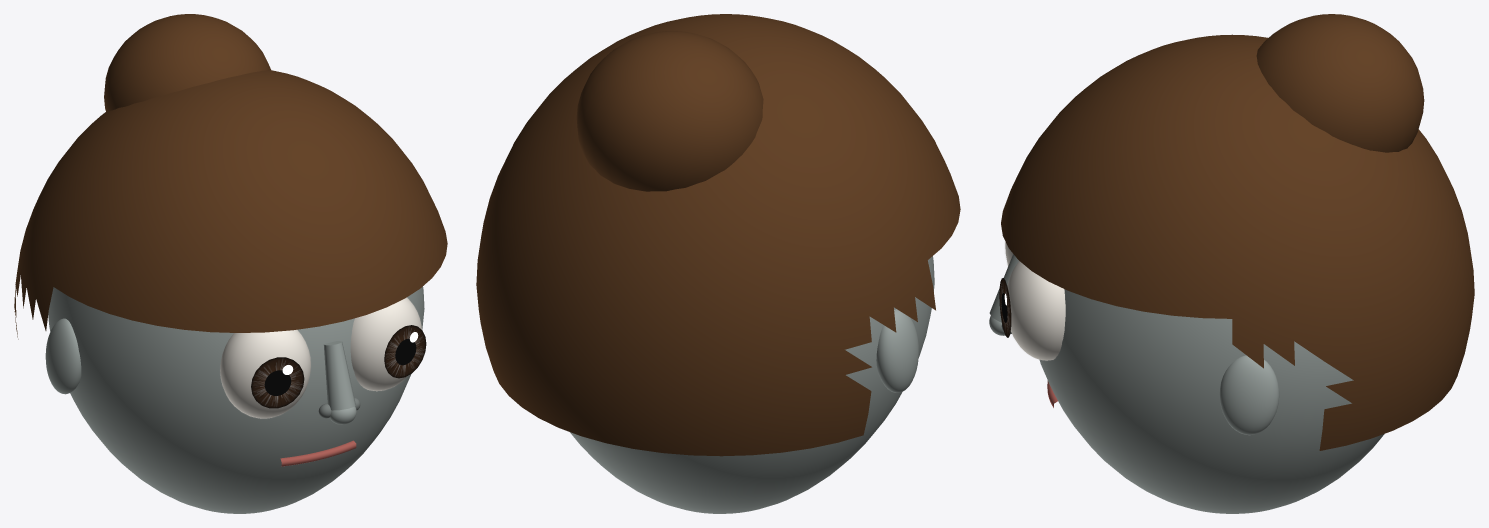
The model's file is autres-05-chignon.glb.
3 views of the same model, side by side, from view 1: azimuth 30°, elevation 25°; view 2: azimuth 150°, elevation 25°; view 3: azimuth 270°, elevation 25° (orthographic). The views are drawn at different scales.
Size of what is drawn, in the model's own units: 0.3304 by 0.3705 by 0.3417.
Materials: 10 (1 with a texture image).
